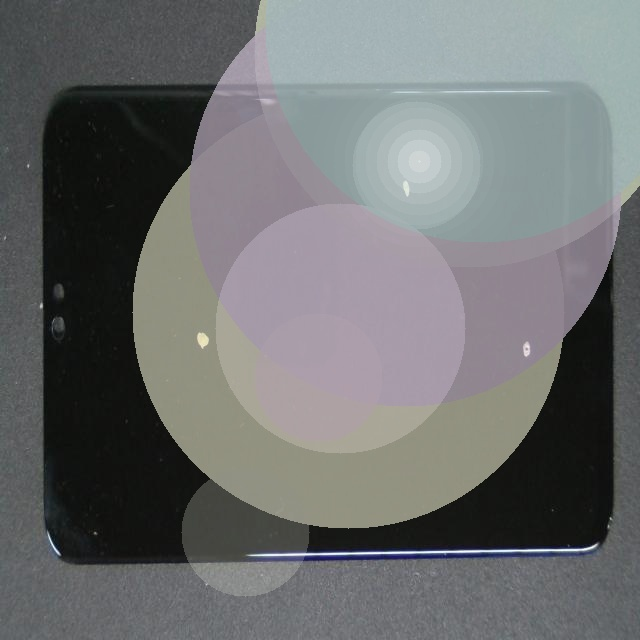stain: (269, 144, 640, 500), (205, 64, 599, 256), (117, 151, 290, 485)
